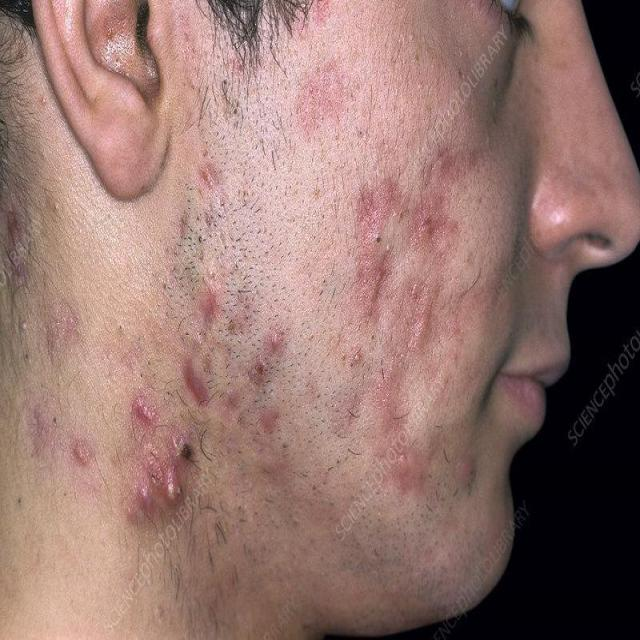blackheads: (182, 344, 210, 416)
dark spot: (133, 387, 162, 436), (363, 221, 387, 265)
pustules: (125, 432, 195, 539)
